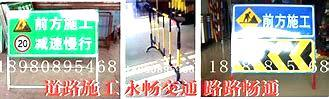sign: (233, 5, 317, 75), (8, 12, 95, 56)
